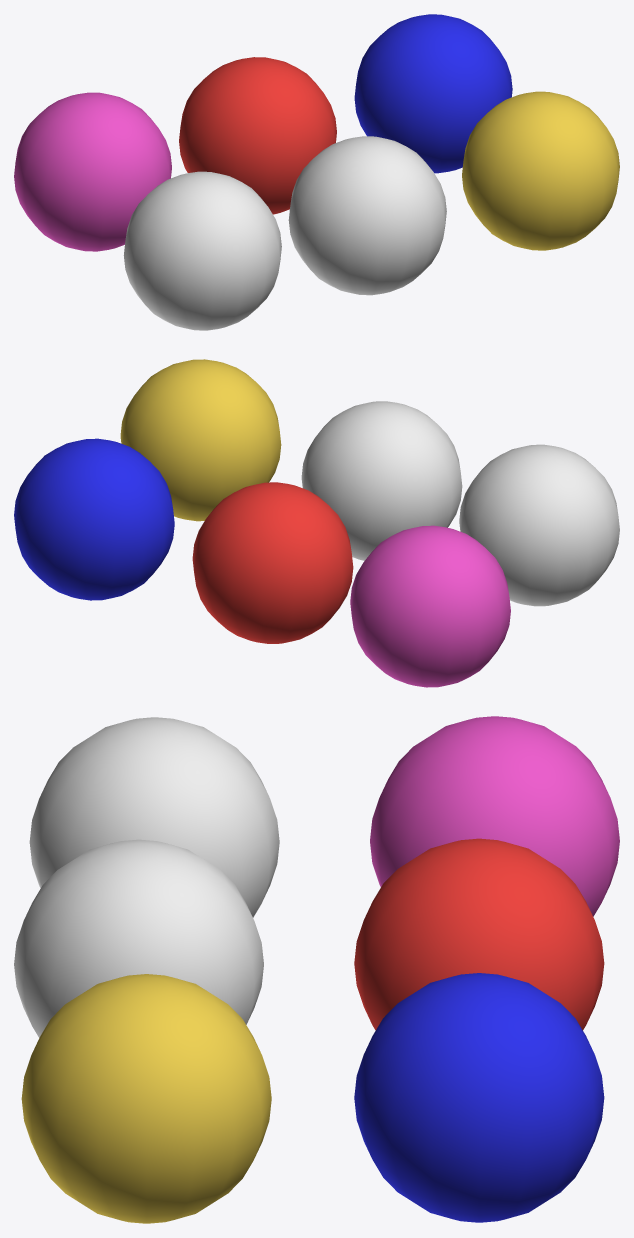
File: pbr.glb
3 renders of one model, top to bottom at view 1: azimuth 30°, elevation 25°; view 2: azimuth 150°, elevation 25°; view 3: azimuth 270°, elevation 25°, orthographic. The views are drawn at different scales.
Parts seen in each view (by area): view 1: Sphere.001, Sphere.003, Sphere.002, Sphere.004, Sphere.006, Sphere.005; view 2: Sphere.005, Sphere.006, Sphere.004, Sphere.002, Sphere.003, Sphere.001; view 3: Sphere.003, Sphere.006, Sphere.001, Sphere.005, Sphere.004, Sphere.002.
Part boxes in pixels (box(x1,y1,x2,y2)): Sphere.001: box(288, 136, 446, 295); Sphere.003: box(462, 91, 619, 250); Sphere.002: box(123, 171, 281, 330); Sphere.004: box(14, 92, 171, 251); Sphere.006: box(354, 14, 512, 173); Sphere.005: box(179, 57, 336, 214); Sphere.005: box(192, 482, 353, 643); Sphere.006: box(14, 438, 174, 600); Sphere.004: box(350, 525, 510, 687); Sphere.002: box(459, 444, 619, 606); Sphere.003: box(120, 359, 281, 521); Sphere.001: box(301, 401, 462, 560); Sphere.003: box(21, 974, 271, 1223); Sphere.006: box(354, 973, 604, 1222); Sphere.001: box(14, 839, 263, 1037); Sphere.005: box(354, 838, 604, 1030); Sphere.004: box(370, 716, 619, 916); Sphere.002: box(29, 717, 279, 917).
Bounding box in the file's own units: 2.74 × 0.7956 × 1.93.
